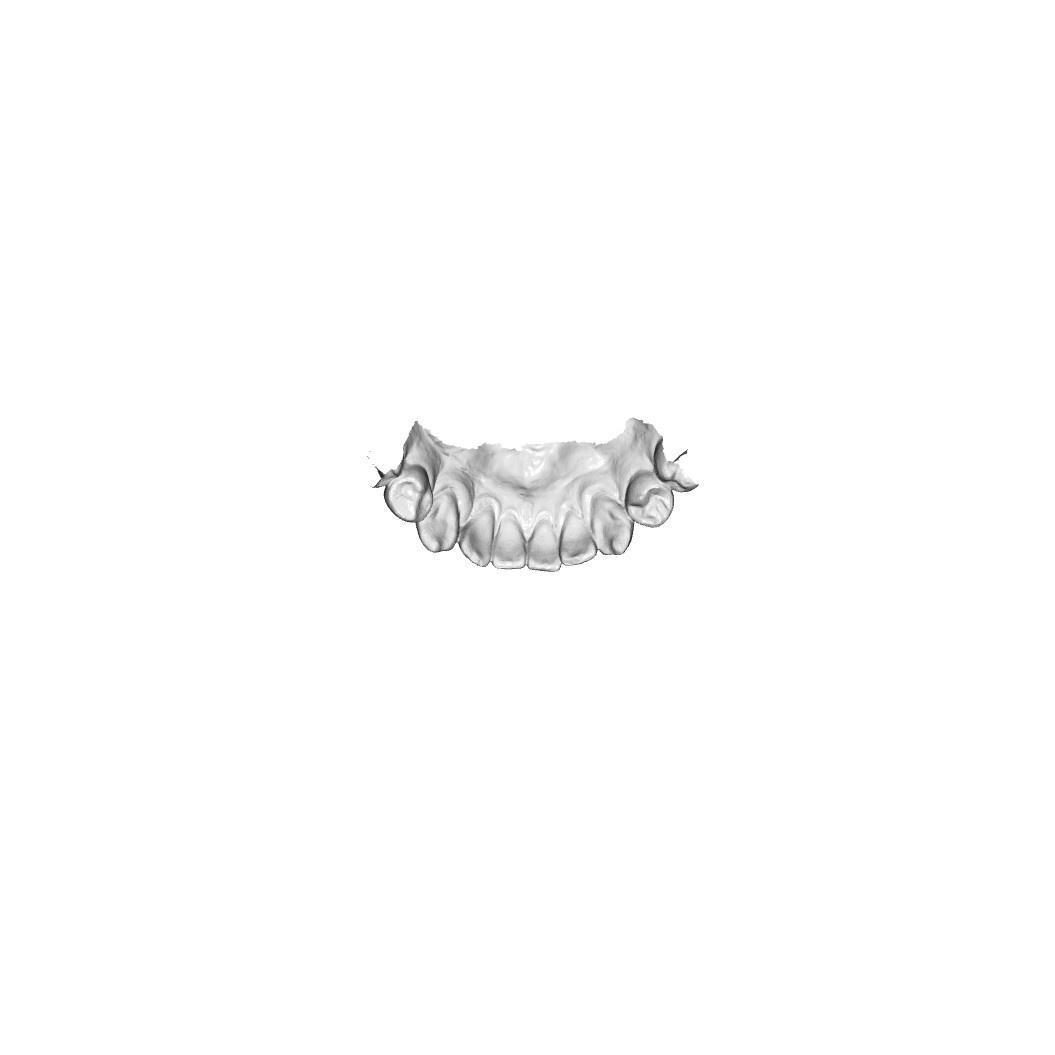canine: (416, 490, 458, 557), (588, 496, 630, 555)
incisor: (460, 501, 497, 564), (559, 509, 596, 564), (528, 516, 563, 574), (494, 518, 527, 566)
premolar: (627, 475, 679, 528), (388, 472, 431, 518)
